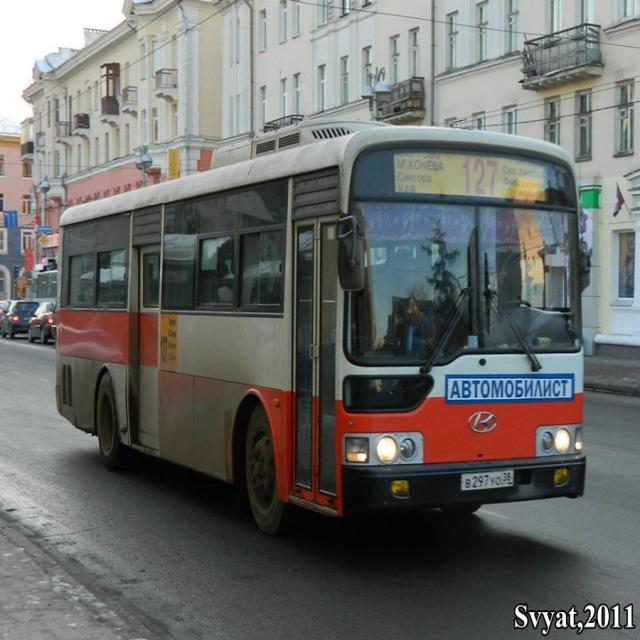number-of-bus: (462, 156, 502, 198)
